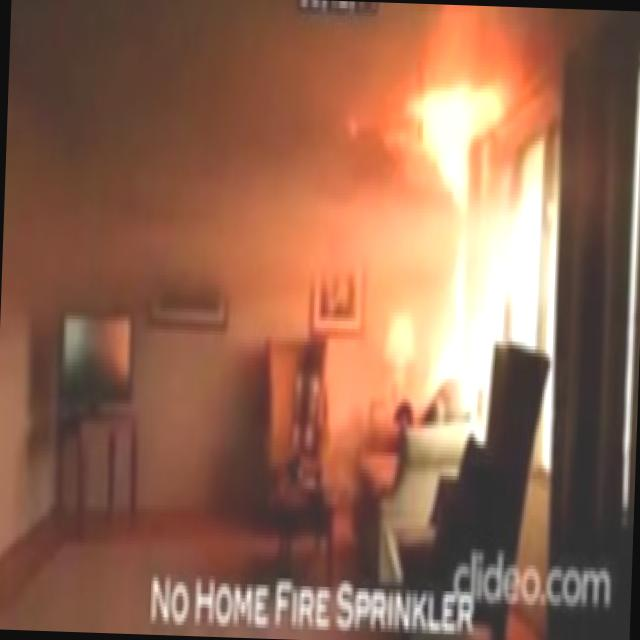fire: (388, 2, 539, 414)
